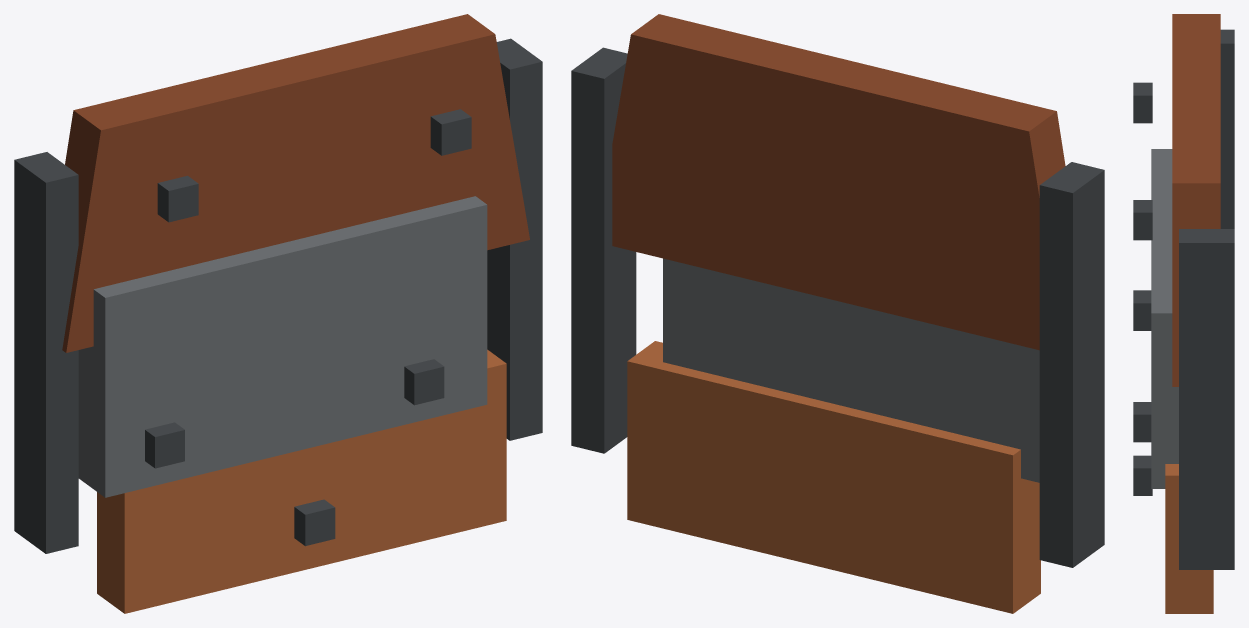
File: mod_armor_scrap_plates.glb
3 renders of one model, left to right at view 1: azimuth 30°, elevation 25°; view 2: azimuth 150°, elevation 25°; view 3: azimuth 270°, elevation 25°, orthographic. The views are drawn at different scales.
Visible parts, largest first — view 1: scrap_plates; view 2: scrap_plates; view 3: scrap_plates.
Part boxes in pixels (x1,y1,x2,y2): scrap_plates: (14, 14, 542, 613); scrap_plates: (571, 14, 1104, 613); scrap_plates: (1133, 14, 1234, 613).
Bounding box in the file's own units: 0.364 × 0.34 × 0.073.
